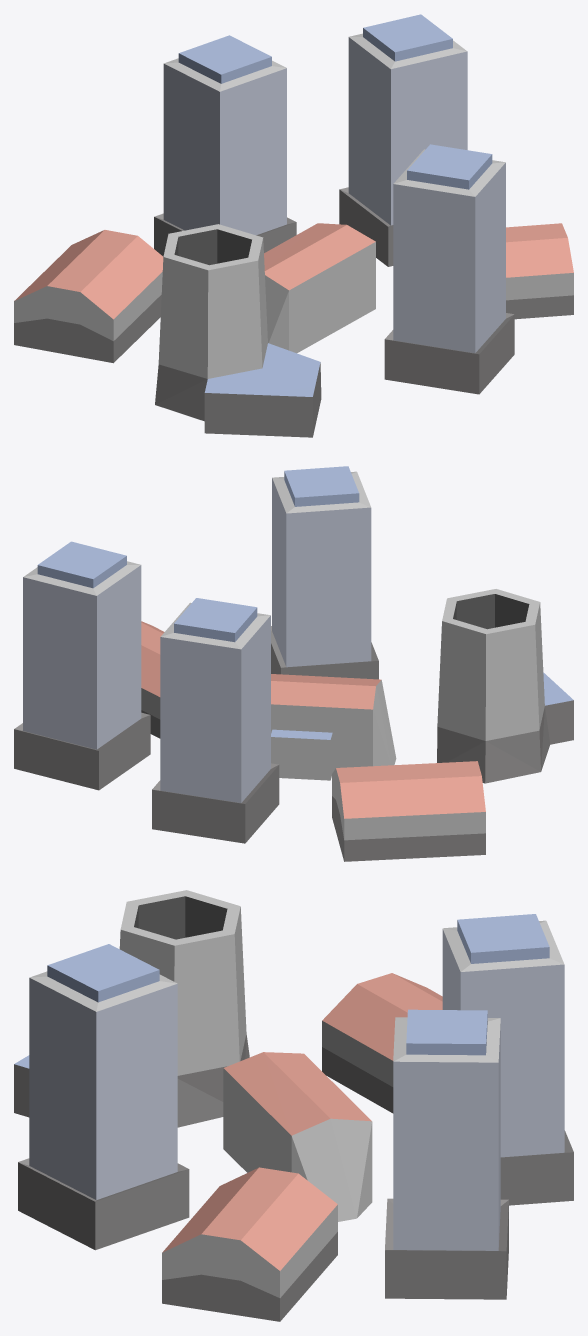
File: beta01_11.dae
The picture shows the model from 3 angles, top to bottom: view 1: azimuth 30°, elevation 25°; view 2: azimuth 150°, elevation 25°; view 3: azimuth 270°, elevation 25°; orthographic projection. The views are drawn at different scales.
Parts seen in each view (by area): view 1: Cube; view 2: Cube; view 3: Cube.
Boxes of the visible parts, x1,y1,x2,y2 form: Cube: (14, 14, 573, 437); Cube: (14, 466, 573, 861); Cube: (14, 890, 573, 1321).
Size of the model in its own units: 1.92 by 1.61 by 0.7955.
